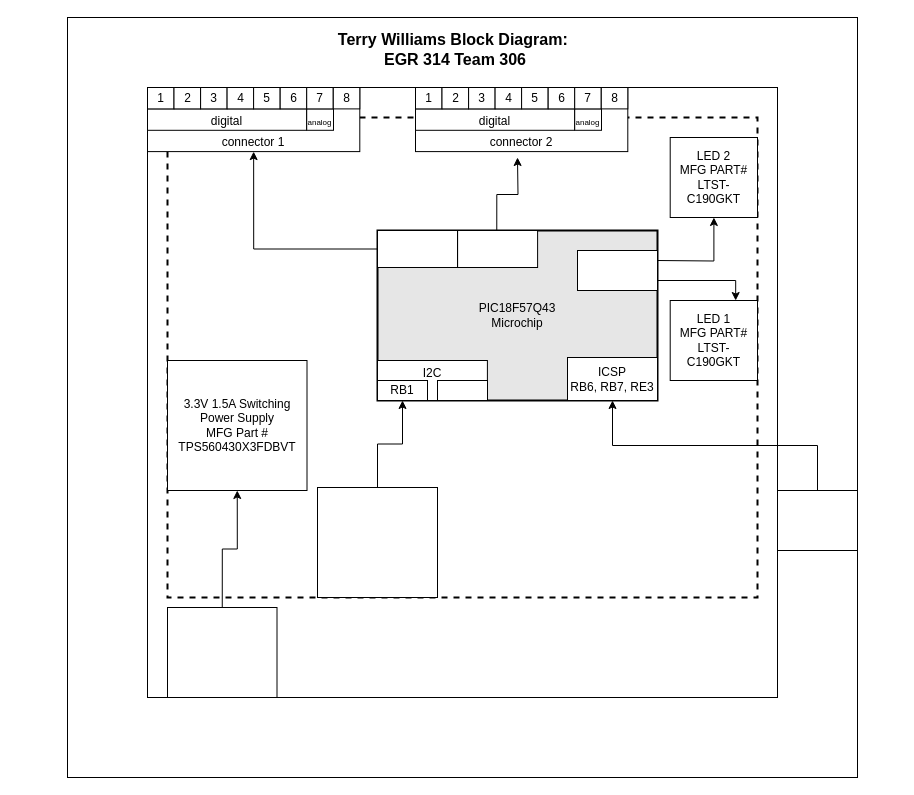
Image size: 914x795. Some labels were removed from this diagram. Here are the shapes that lost their labels. From the top down, the centre of each, then its label:
point (417, 249): UART1 RX0
point (497, 249): UART1 TX0
point (617, 270): GPIO
point (462, 390): RB2
point (817, 520): Microchip Snap Programmer
point (377, 542): Hall Effect Sensor MFG PART #: AS5600L-ASOM SOIC8 LF T&RDP
point (221, 652): Barrel Jack Adapter
